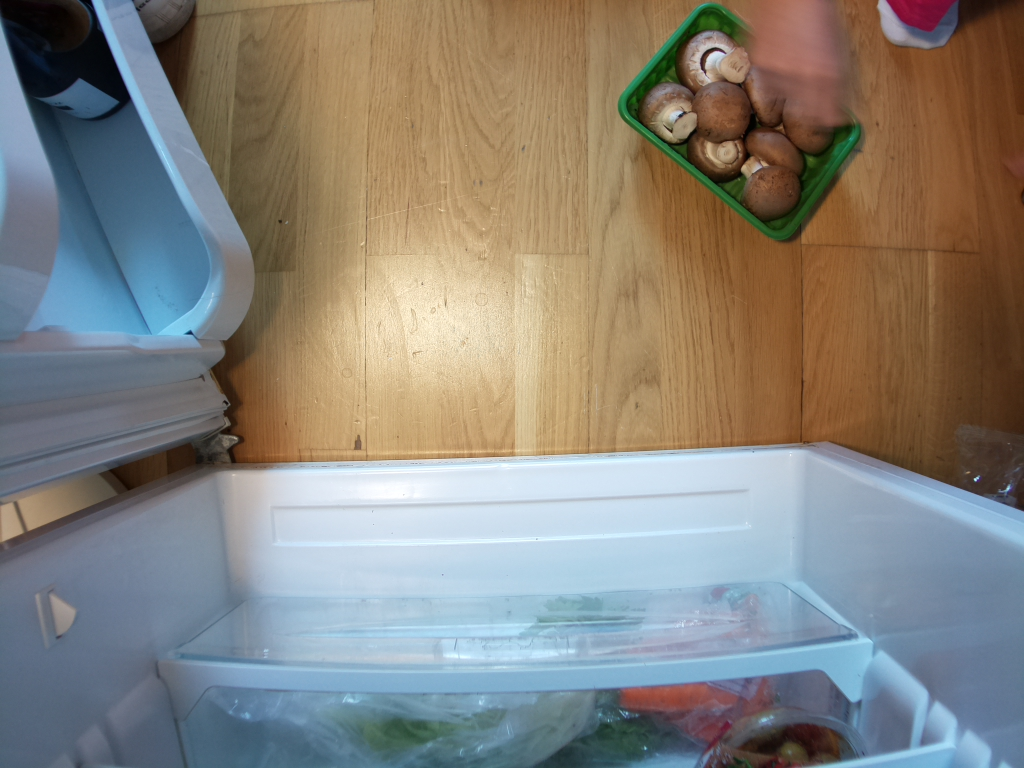mushrooms: (611, 7, 871, 239)
